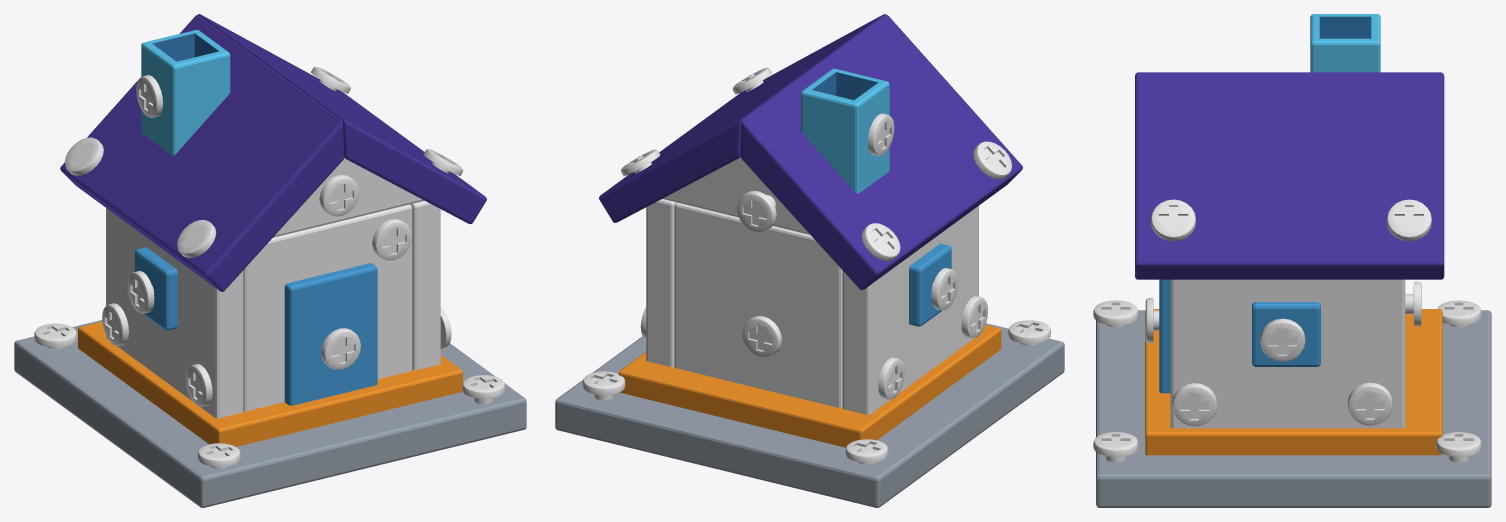
3 views of the same model, side by side, from view 1: azimuth 30°, elevation 25°; view 2: azimuth 150°, elevation 25°; view 3: azimuth 270°, elevation 25° (orthographic). The views are drawn at different scales.
Parts seen in each view (by area): view 1: Cube.005, Cube.009, Cube.001, Cube.003, Cube.013, Cube.010, Cube.006, Cube, Cube.004, Cube.008, Cube.011, obj_screw (+11 smaller); view 2: Cube.005, Cube.009, Cube.002, Cube.003, Cube.013, Cube.006, Cube, Cube.004, Cube.007, Cube.011, obj_screw.001, obj_screw.007 (+9 smaller); view 3: Cube.006, Cube.009, Cube.004, Cube.013, Cube, Cube.012, obj_screw.012, obj_screw.013, obj_screw.016, obj_screw.003, obj_screw.002, Cube.010 (+6 smaller).
Boxes of the visible parts, x1,y1,x2,y2 form: Cube.005: (60,14,344,291); Cube.009: (14,320,526,507); Cube.001: (243,204,412,411); Cube.003: (106,208,243,418); Cube.013: (78,321,462,446); Cube.010: (284,263,377,405); Cube.006: (198,14,486,224); Cube: (141,30,230,155); Cube.004: (410,200,440,370); Cube.008: (273,158,423,237); Cube.011: (134,247,177,330); obj_screw: (372,219,411,260); Cube.005: (740,14,1022,290); Cube.009: (555,323,1064,507); Cube.002: (674,202,842,407); Cube.003: (842,206,978,414); Cube.013: (618,325,1001,447); Cube.006: (599,14,885,222); Cube: (801,68,889,193); Cube.004: (646,199,676,366); Cube.007: (662,157,810,234); Cube.011: (909,243,951,326); obj_screw.001: (737,190,776,232); obj_screw.007: (742,316,781,357); Cube.006: (1135,72,1444,279); Cube.009: (1096,310,1491,507); Cube.004: (1170,279,1405,428); Cube.013: (1145,309,1442,455); Cube: (1310,14,1380,72); Cube.012: (1252,302,1320,366); obj_screw.012: (1172,383,1217,426); obj_screw.013: (1347,382,1392,425); obj_screw.016: (1260,318,1305,361); obj_screw.003: (1386,199,1431,241); obj_screw.002: (1151,199,1195,241); Cube.010: (1159,279,1170,393).
Size of the model in its own units: 17.22 by 17.64 by 17.34.
